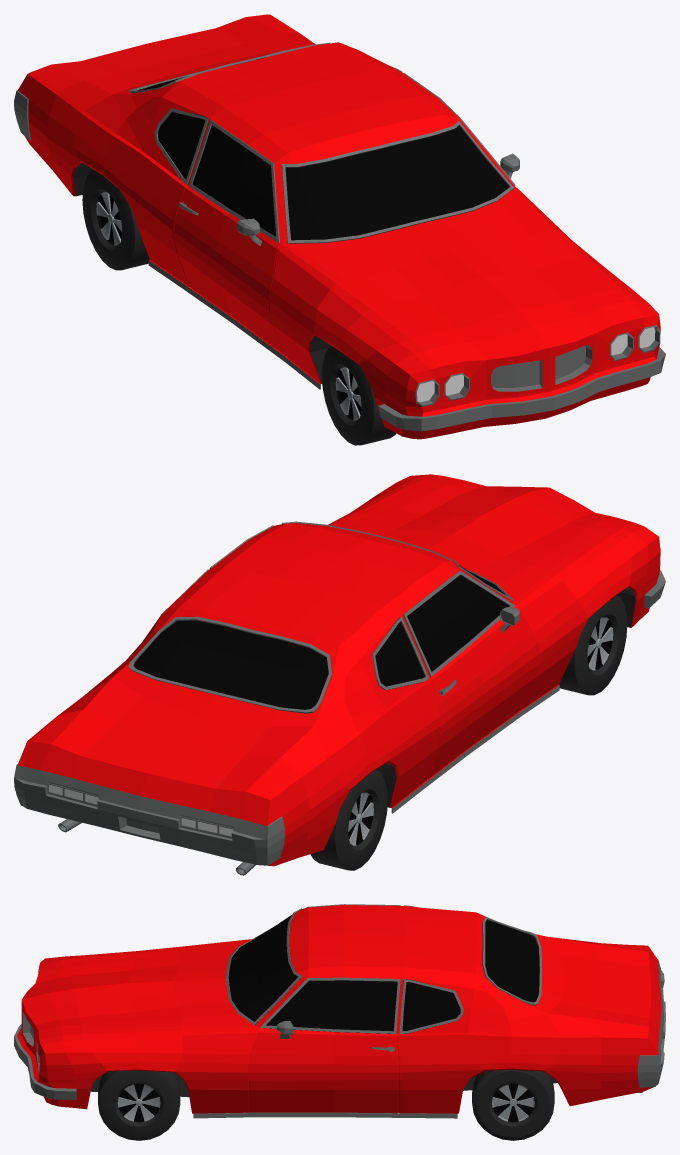
Rendered from car1.fbx.
3 renders of one model, top to bottom at view 1: azimuth 30°, elevation 25°; view 2: azimuth 150°, elevation 25°; view 3: azimuth 270°, elevation 25°, orthographic. The views are drawn at different scales.
Parts seen in each view (by area): view 1: MainCar, Wheels; view 2: MainCar, Wheels; view 3: MainCar, Wheels.
Part boxes in pixels (x1,y1,x2,y2): MainCar: (14,14,665,439); Wheels: (82,169,396,445); MainCar: (14,474,665,875); Wheels: (310,595,627,870); MainCar: (14,904,665,1118); Wheels: (98,1070,554,1140).
Bounding box in the file's own units: 128 × 89.54 × 333.
